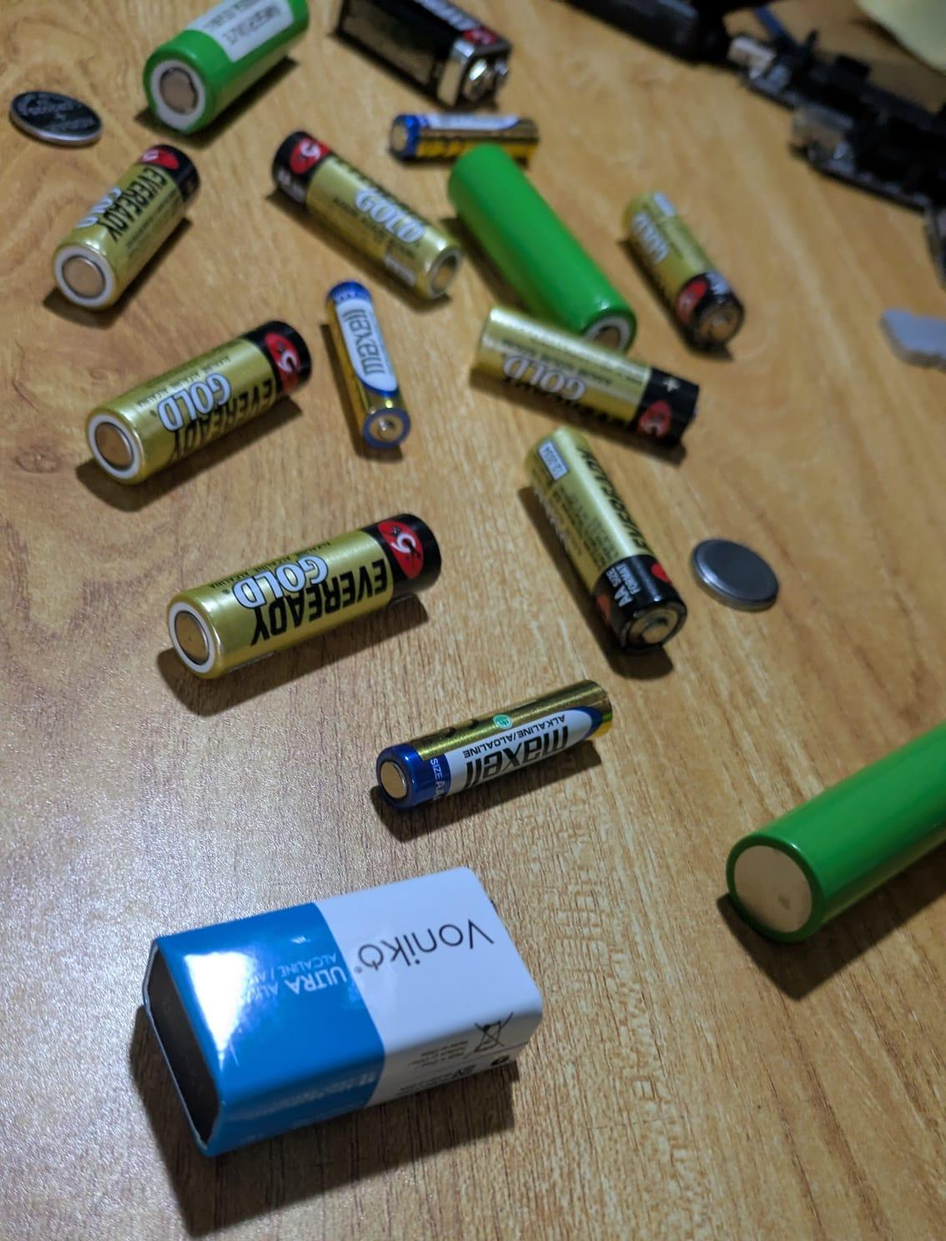9V: (142, 849, 555, 1180), (333, 0, 516, 111)
AA: (164, 512, 439, 678), (84, 315, 310, 487), (523, 431, 685, 646), (272, 128, 465, 301), (474, 305, 697, 450), (53, 141, 201, 311), (625, 190, 747, 351)
AAA: (376, 682, 613, 822), (324, 279, 412, 451), (389, 112, 541, 165)
COIN: (688, 538, 783, 612), (7, 87, 107, 148)
